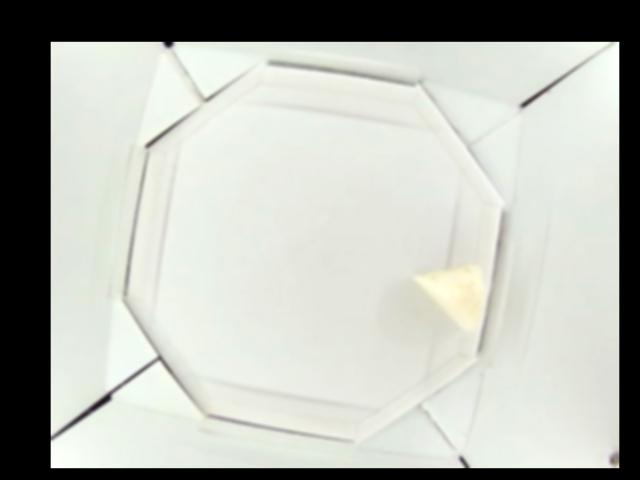Mooli: (416, 262, 481, 333)
